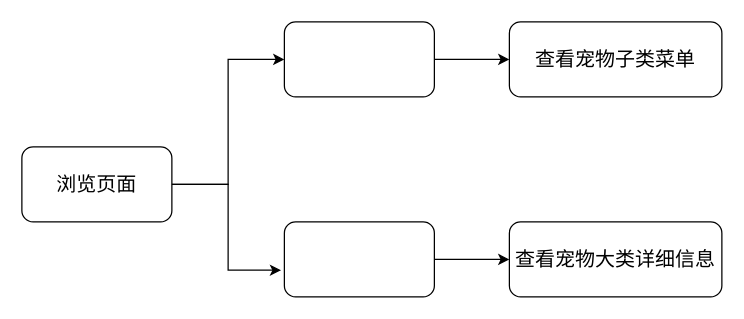
Some shapes in this 744 by 319 pixel diagram are drawn without their labels. Here are the shapes that lost their labels. From the top down, the box of each, then its label:
(283, 21, 434, 97): 悬浮图标
(283, 221, 434, 297): 点击图标
